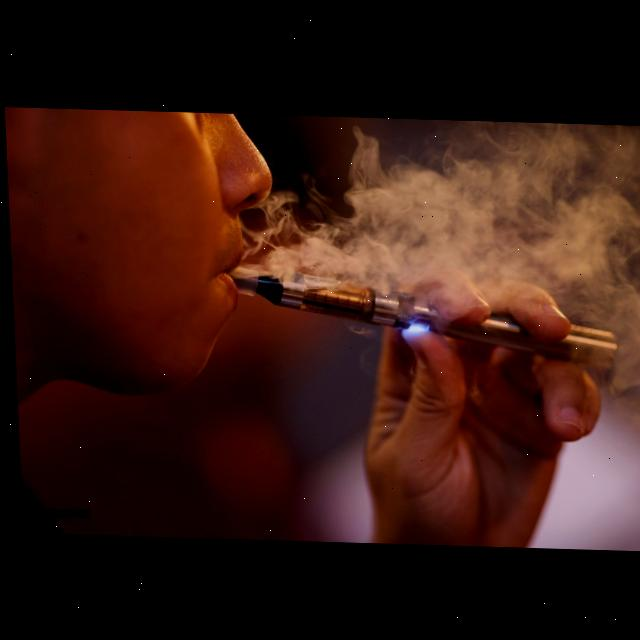vape: (228, 264, 615, 367)
